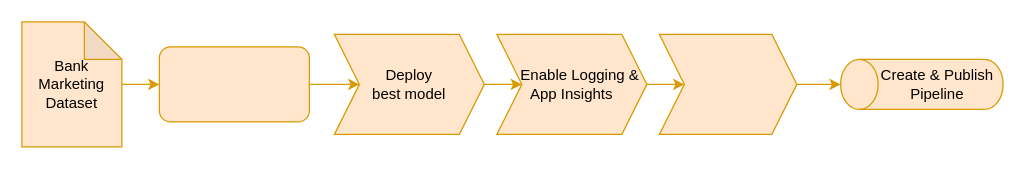
Image size: 1025x169. Some labels were removed from this diagram. The centre of each missing label's shape, as x and y in pixels:
"AutoML" belongs at (233,84).
"Cosume Model Endpoint" belongs at (727,83).
